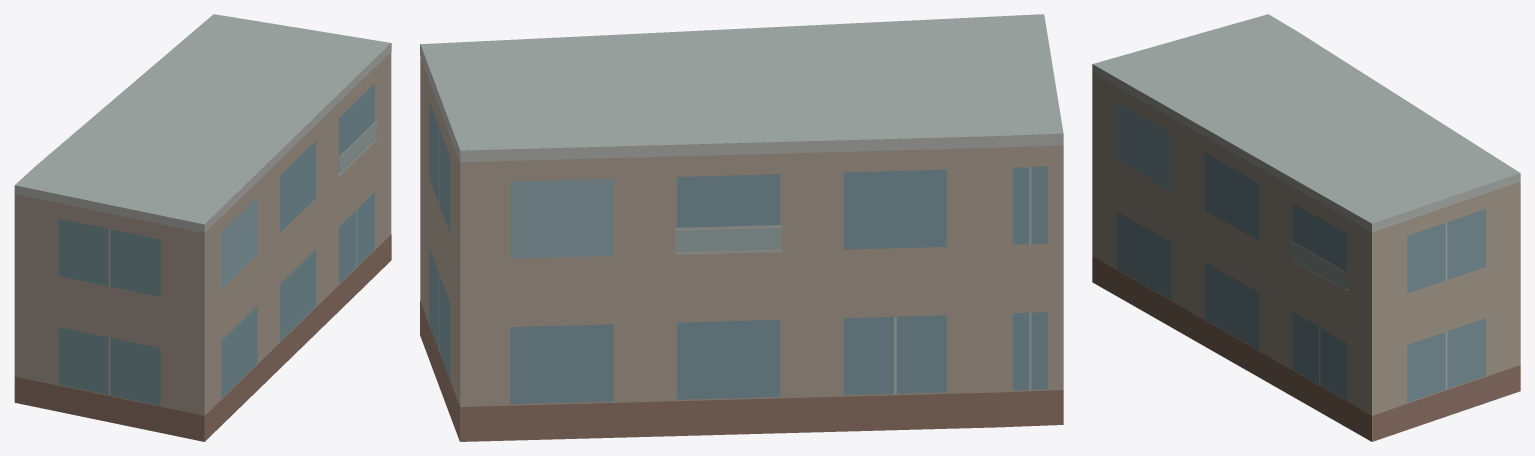
The model's file is survey-upis-32846350.glb.
3 renders of one model, left to right at view 1: azimuth 30°, elevation 25°; view 2: azimuth 150°, elevation 25°; view 3: azimuth 270°, elevation 25°, orthographic. The views are drawn at different scales.
Visible parts, largest first — view 1: survey-upis-32846350.tmp; view 2: survey-upis-32846350.tmp; view 3: survey-upis-32846350.tmp.
Boxes of the visible parts, box(x1,y1,x2,y2) form: survey-upis-32846350.tmp: box(14, 14, 391, 441); survey-upis-32846350.tmp: box(420, 14, 1063, 441); survey-upis-32846350.tmp: box(1092, 14, 1520, 441).
Size of the model in its own units: 12.59 by 6.1 by 10.86.
